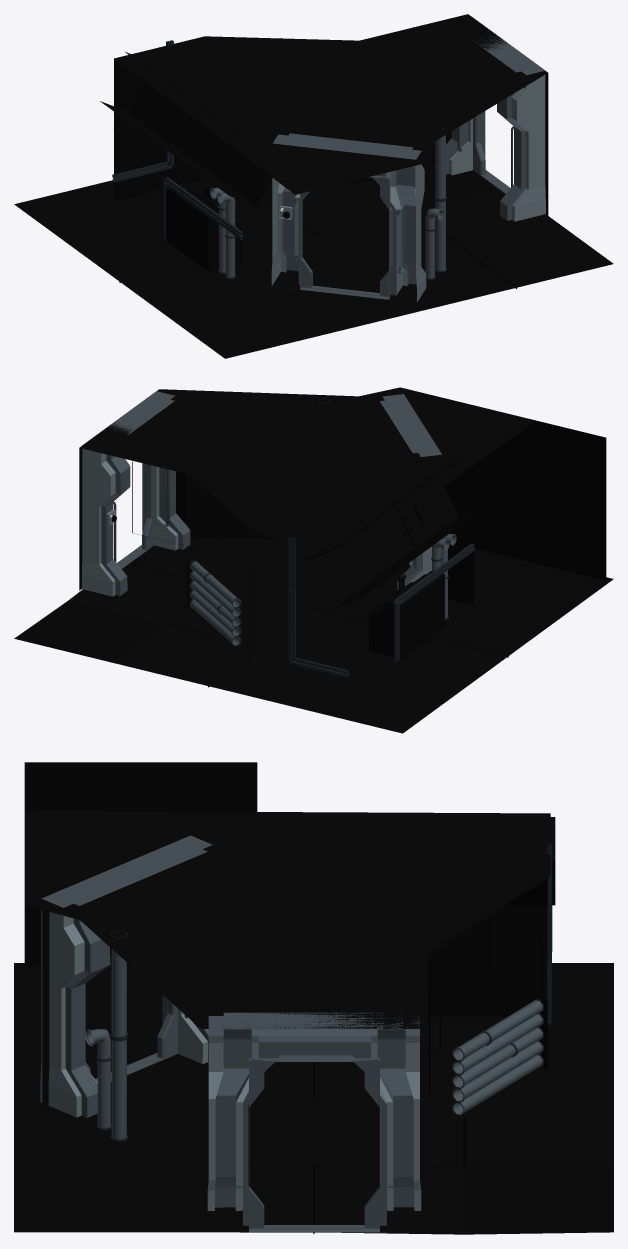
The model's file is ROOMKEY_Code.fbx.
3 views of the same model, one above another, from view 1: azimuth 30°, elevation 25°; view 2: azimuth 150°, elevation 25°; view 3: azimuth 270°, elevation 25° (orthographic). The views are drawn at different scales.
Parts seen in each view (by area): view 1: Plane.016, Plane.019, ROOMKEY_Code, Cube.302, Plane.017, Cube.304, MainTonel.175, MainTonel.187, MainTonel.189, MainTonel.188, MainTonel.174; view 2: Plane.016, Plane.019, Plane.017, ROOMKEY_Code, Cube.302, Cube.304, MainTonel.177, MainTonel.181, MainTonel.182; view 3: Plane.016, Plane.019, ROOMKEY_Code, Plane.017, Cube.302, MainTonel.188, MainTonel.187, MainTonel.189, MainTonel.181, MainTonel.177, MainTonel.182, MainTonel.179 (+1 smaller).
Part boxes in pixels (bbox=[...]): Plane.016: bbox=[14, 165, 613, 358]; Plane.019: bbox=[114, 14, 547, 194]; ROOMKEY_Code: bbox=[271, 17, 545, 302]; Cube.302: bbox=[100, 52, 271, 206]; Plane.017: bbox=[114, 27, 548, 215]; Cube.304: bbox=[166, 184, 241, 272]; MainTonel.175: bbox=[217, 192, 235, 279]; MainTonel.187: bbox=[425, 208, 443, 279]; MainTonel.189: bbox=[434, 124, 446, 200]; MainTonel.188: bbox=[434, 198, 446, 272]; MainTonel.174: bbox=[210, 187, 225, 274]; Plane.016: bbox=[14, 539, 613, 733]; Plane.019: bbox=[79, 387, 535, 554]; Plane.017: bbox=[79, 420, 606, 676]; ROOMKEY_Code: bbox=[82, 391, 441, 596]; Cube.302: bbox=[306, 456, 487, 610]; Cube.304: bbox=[369, 571, 444, 659]; MainTonel.177: bbox=[189, 570, 241, 617]; MainTonel.181: bbox=[189, 590, 241, 636]; MainTonel.182: bbox=[189, 599, 241, 646]; Plane.016: bbox=[14, 963, 613, 1234]; Plane.019: bbox=[24, 810, 550, 1028]; ROOMKEY_Code: bbox=[40, 835, 421, 1232]; Plane.017: bbox=[24, 762, 552, 1118]; Cube.302: bbox=[186, 817, 555, 905]; MainTonel.188: bbox=[110, 1037, 127, 1141]; MainTonel.187: bbox=[85, 1029, 111, 1130]; MainTonel.189: bbox=[110, 930, 127, 1040]; MainTonel.181: bbox=[451, 1040, 543, 1102]; MainTonel.177: bbox=[451, 1013, 543, 1075]; MainTonel.182: bbox=[451, 1054, 543, 1116]; MainTonel.179: bbox=[452, 1043, 516, 1089].
Size of the model in its own units: 7.15 by 2.6 by 6.72.
